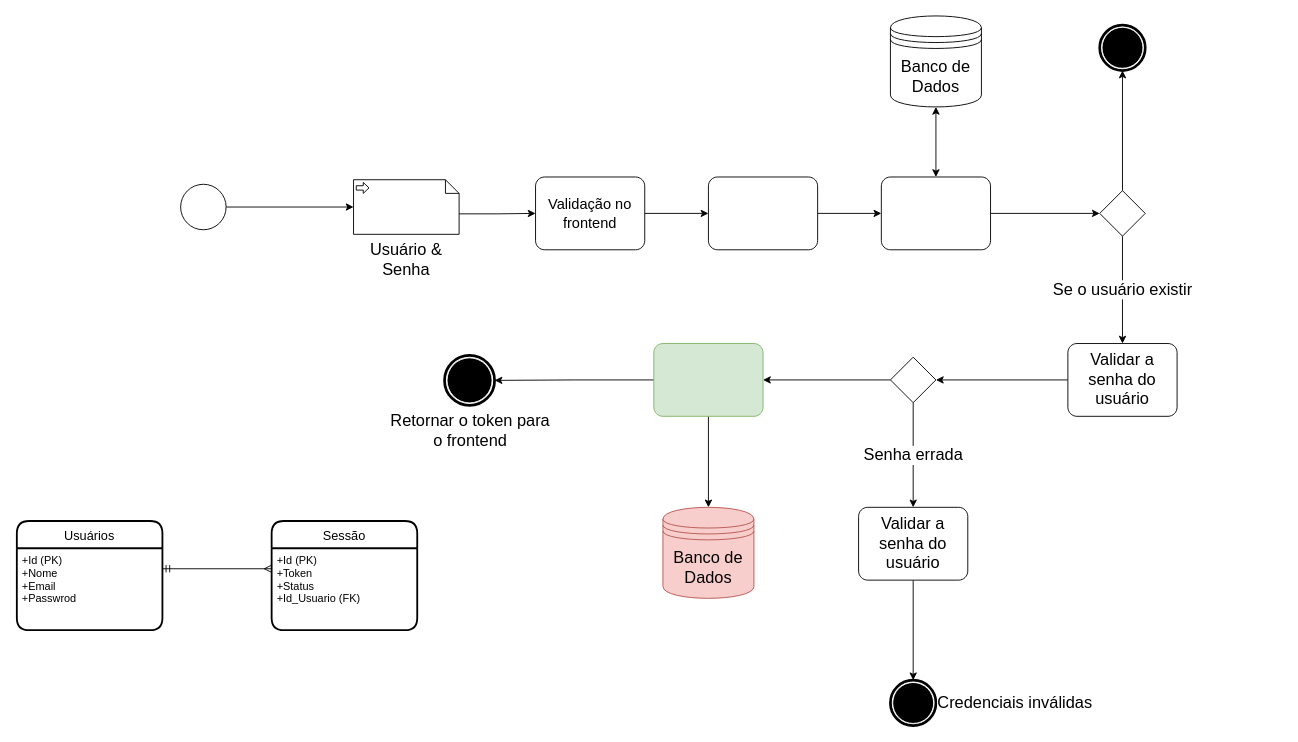
The diagram is 1298 pixels wide and 742 high, and some of its shapes have lost their labels. The shapes that lost their labels are listed below. From the top down, each one's centre as x and y in pixels, then its label:
At point 1122,47: "Usuário não existe".
At point 203,206: "Usuário acessa a página de autenticação".
At point 763,213: "Validação no backend".
At point 935,213: "Consultar se o usuário existe".
At point 708,379: "Emitir um token para o usuário".
